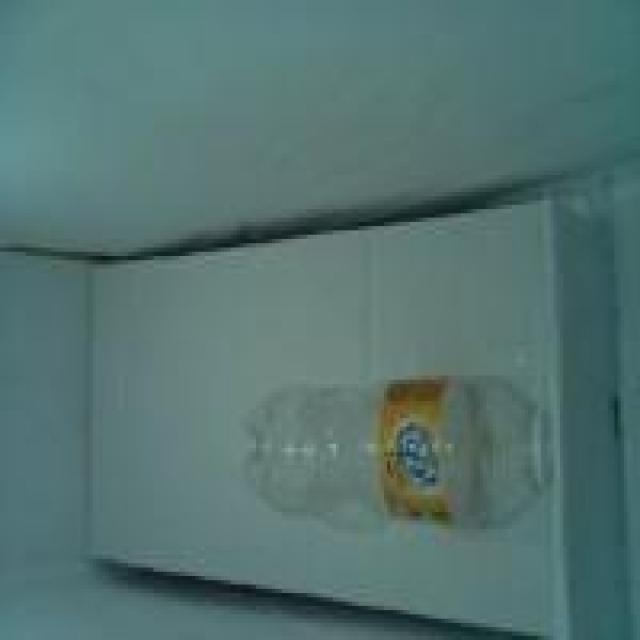bottle: (243, 372, 556, 536)
